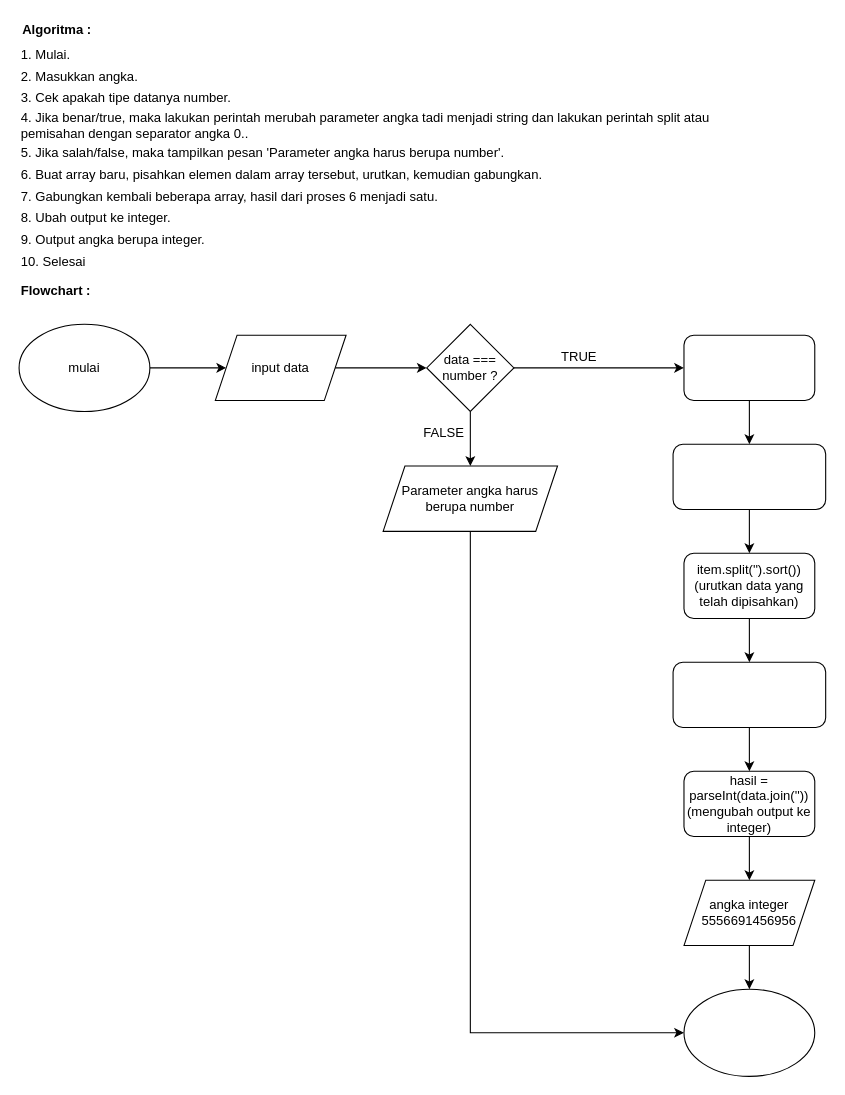
Image size: 845x1095. Some labels were removed from this diagram. Here are the shapes that lost their labels. From the top down, the centre of each, then its label:
point (749, 367): data.tostring().split('0') (ubah ke string, kemudian pisahkan)
point (749, 476): data.map( item => item.split('')) (menampung data ke array baru, dan pisahkan)
point (749, 694): item.split('').sort().join('')) (gabungkan kembali)
point (749, 1032): Selesai
